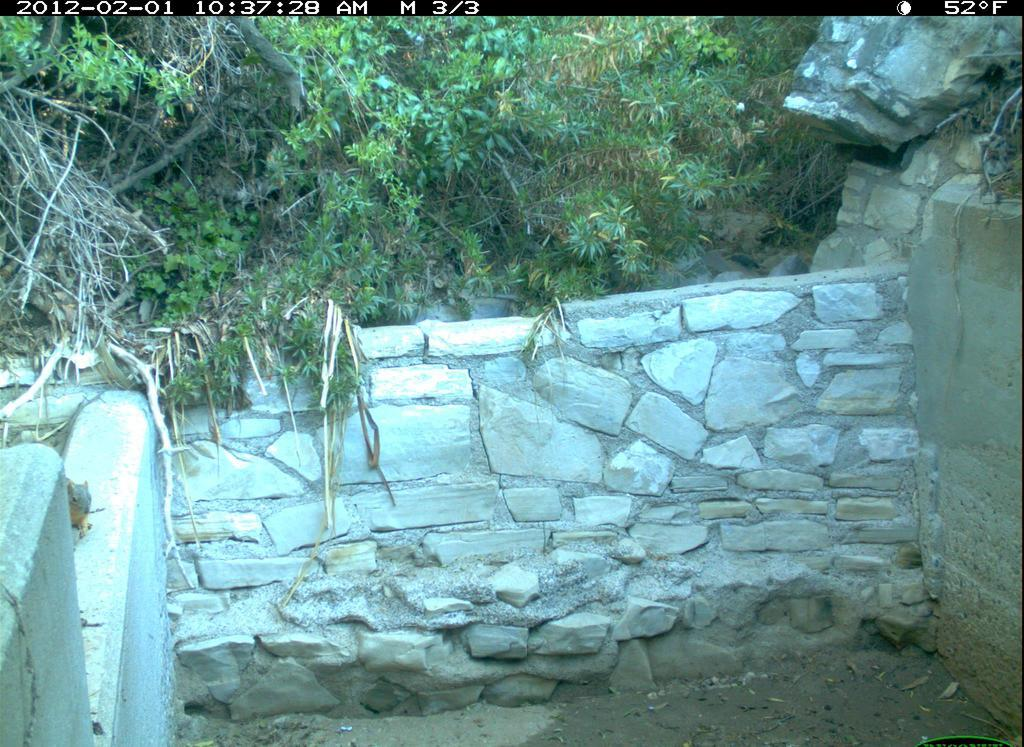squirrel: (48, 464, 129, 553)
